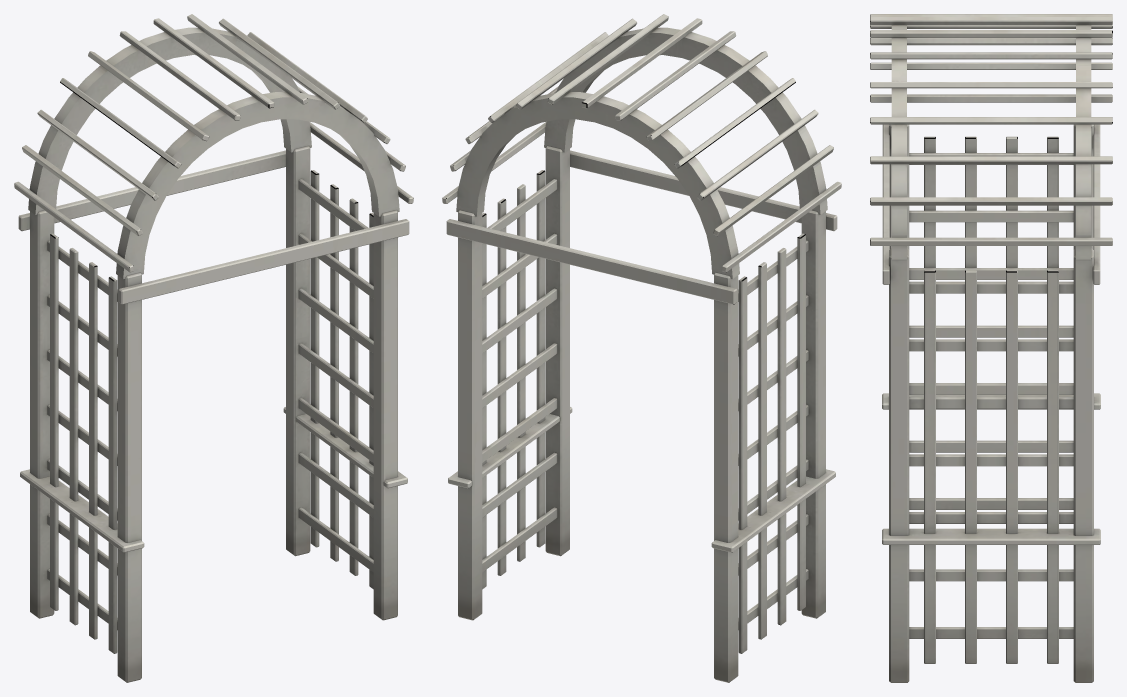
File: garden_arbor.glb
3 views of the same model, side by side, from view 1: azimuth 30°, elevation 25°; view 2: azimuth 150°, elevation 25°; view 3: azimuth 270°, elevation 25° (orthographic). The views are drawn at different scales.
Parts seen in each view (by area): view 1: garden_arbor; view 2: garden_arbor; view 3: garden_arbor.
Boxes of the visible parts, bbox=[...] form: garden_arbor: bbox=[14, 14, 413, 682]; garden_arbor: bbox=[442, 14, 841, 682]; garden_arbor: bbox=[870, 14, 1112, 682].
Size of the model in its own units: 1.47 by 2.7 by 1.02.
1 material, 1 textured.
